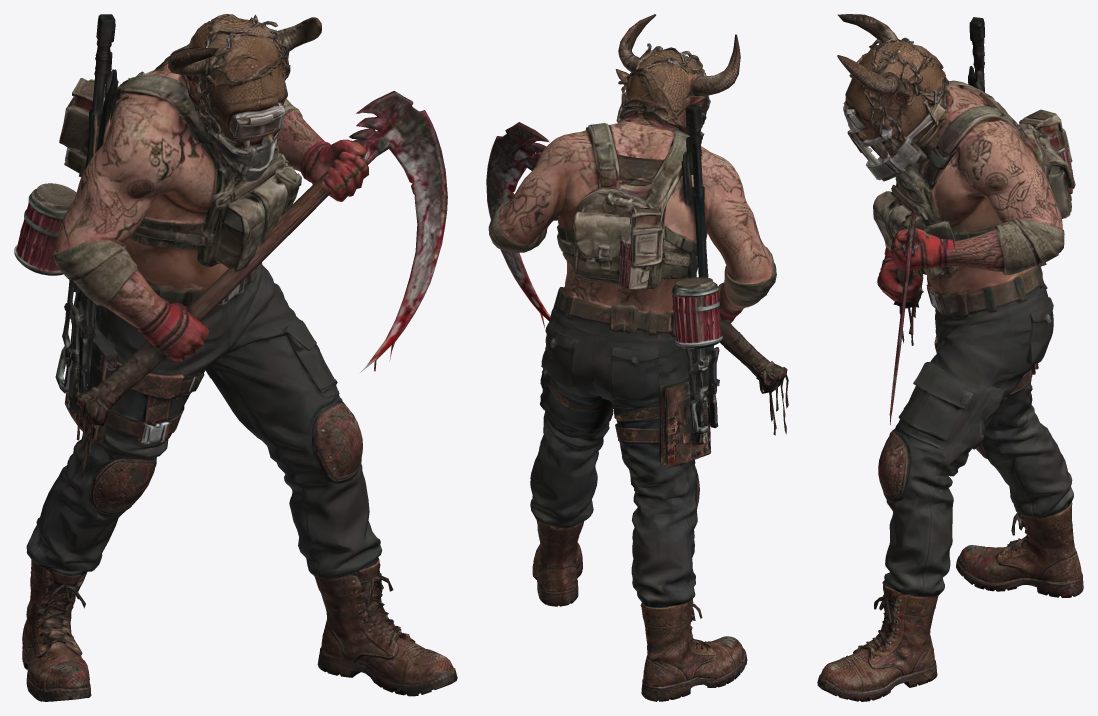
File: tagilla-2.glb
3 views of the same model, side by side, from view 1: azimuth 30°, elevation 25°; view 2: azimuth 150°, elevation 25°; view 3: azimuth 270°, elevation 25° (orthographic). The views are drawn at different scales.
Visible parts, largest first — view 1: tripo_node_31c74c03-8282-486e-af0f-8476327d1b7f; view 2: tripo_node_31c74c03-8282-486e-af0f-8476327d1b7f; view 3: tripo_node_31c74c03-8282-486e-af0f-8476327d1b7f.
Part boxes in pixels (x1,y1,x2,y2): tripo_node_31c74c03-8282-486e-af0f-8476327d1b7f: (14,14,457,701); tripo_node_31c74c03-8282-486e-af0f-8476327d1b7f: (486,14,788,701); tripo_node_31c74c03-8282-486e-af0f-8476327d1b7f: (817,14,1083,701).
Size of the model in its own units: 0.5428 by 0.9789 by 0.3975.
1 material, 1 textured.
